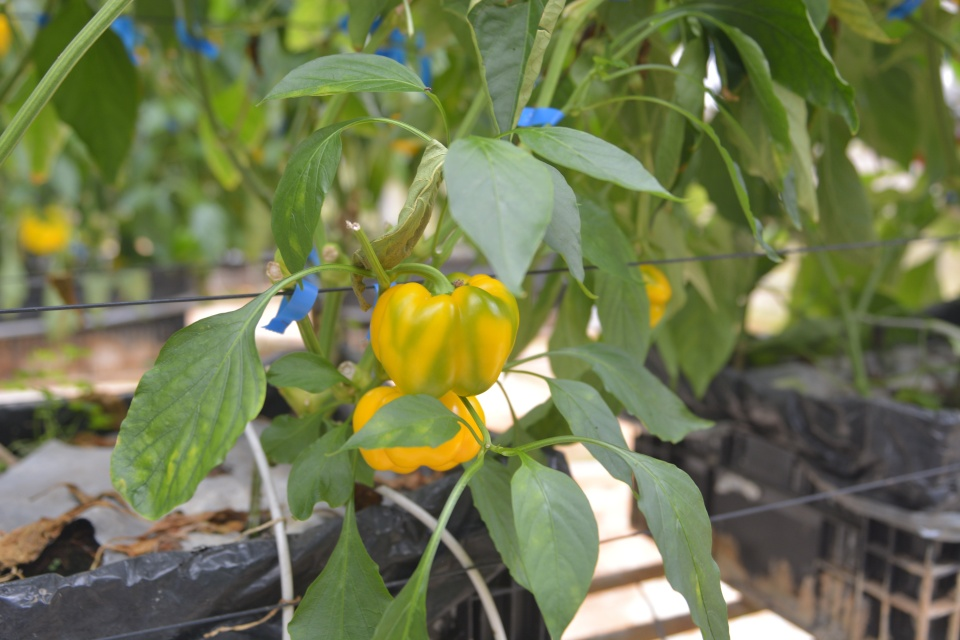fruit: (368, 271, 521, 398), (350, 384, 489, 474), (638, 261, 672, 332)
